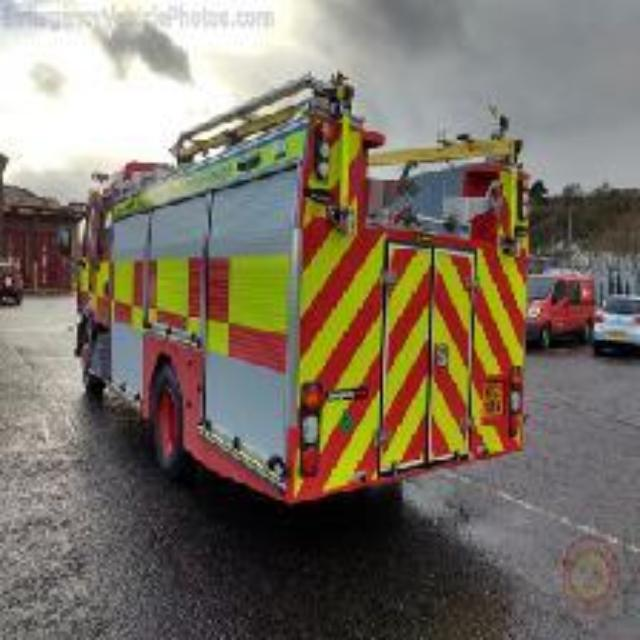emergency: (61, 81, 546, 502)
